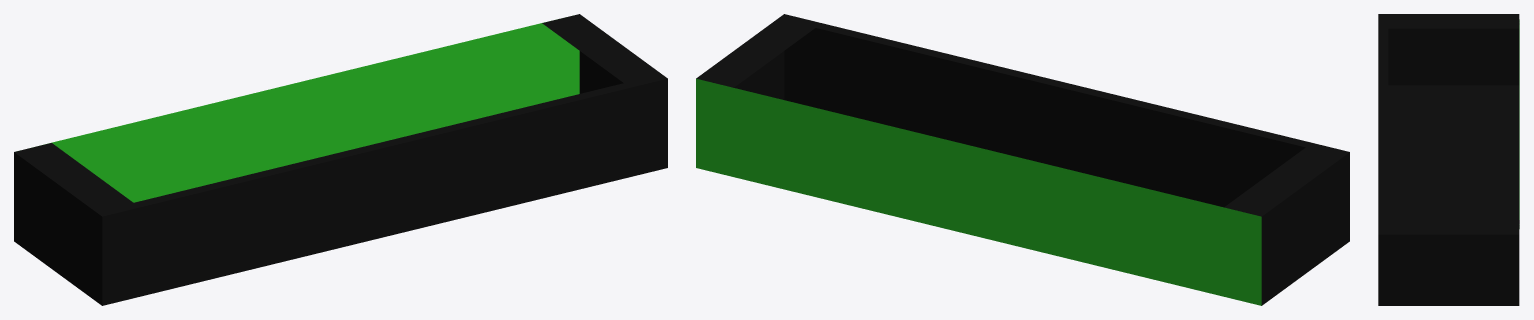
File: net.obj
3 renders of one model, left to right at view 1: azimuth 30°, elevation 25°; view 2: azimuth 150°, elevation 25°; view 3: azimuth 270°, elevation 25°, orthographic. The views are drawn at different scales.
Parts seen in each view (by area): view 1: Plane.001; view 2: Plane.001; view 3: Plane.001.
Boxes of the visible parts, bbox=[...] form: Plane.001: bbox=[14, 14, 667, 305]; Plane.001: bbox=[696, 14, 1349, 305]; Plane.001: bbox=[1378, 14, 1519, 305].
Size of the model in its own units: 1.99 by 0.3 by 0.5385.
